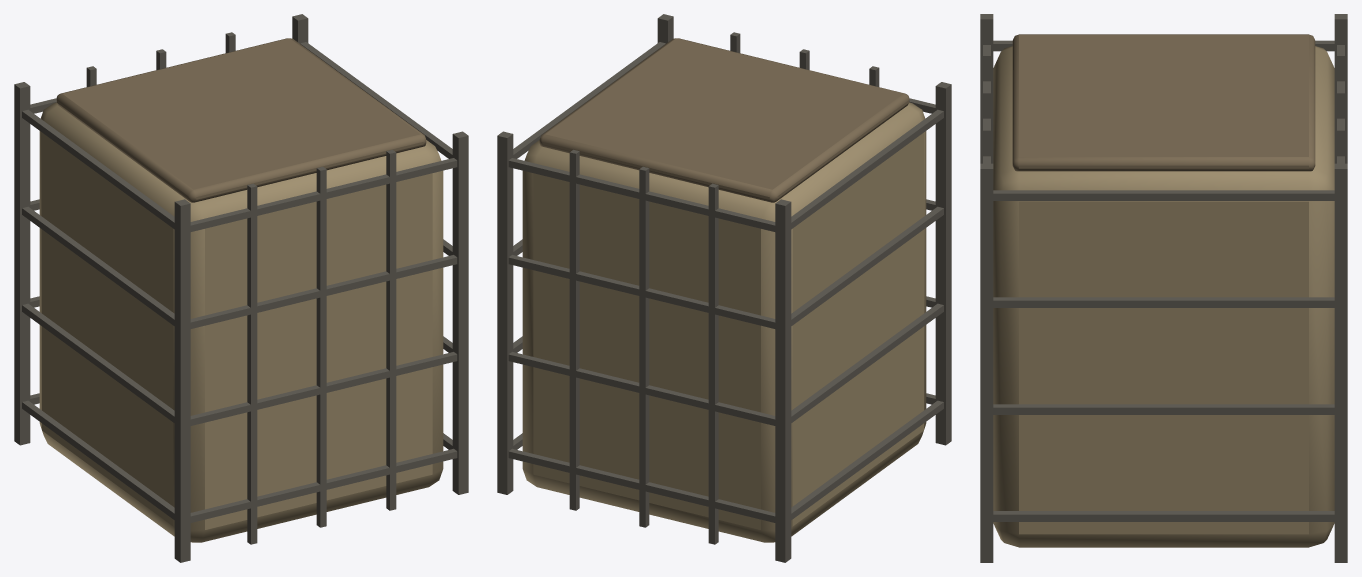
The model's file is Prop_Hesco.fbx.
The picture shows the model from 3 angles, left to right: view 1: azimuth 30°, elevation 25°; view 2: azimuth 150°, elevation 25°; view 3: azimuth 270°, elevation 25°; orthographic projection. The views are drawn at different scales.
Parts seen in each view (by area): view 1: Prop_Hesco_Mesh; view 2: Prop_Hesco_Mesh; view 3: Prop_Hesco_Mesh.
Part boxes in pixels (x1,y1,x2,y2): Prop_Hesco_Mesh: [14, 14, 468, 562]; Prop_Hesco_Mesh: [497, 14, 951, 562]; Prop_Hesco_Mesh: [980, 14, 1347, 562].
Size of the model in its own units: 1.14 by 1.35 by 1.14.
